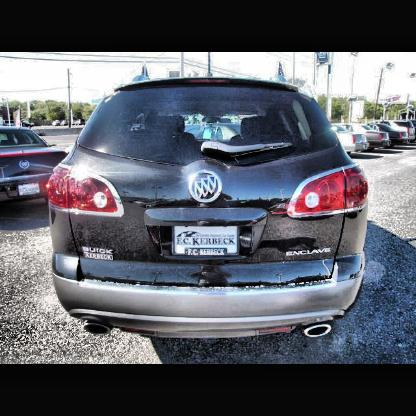Buick Enclave SUV 2012: (44, 76, 373, 342)
